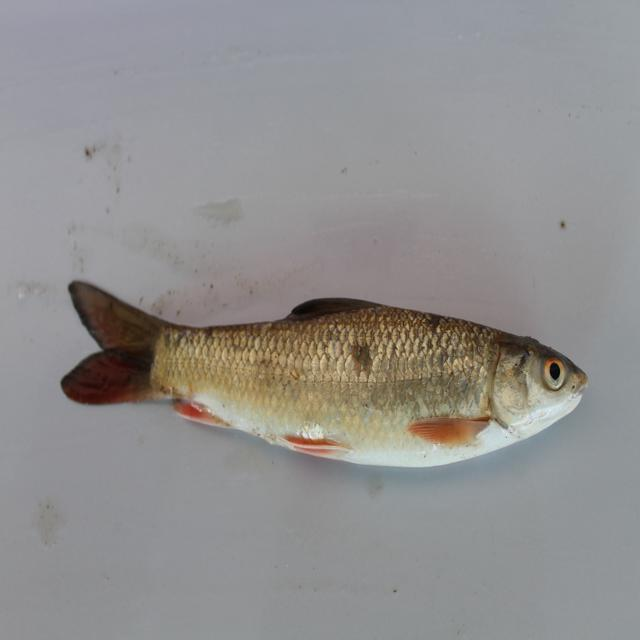Mori: (63, 258, 630, 508)
